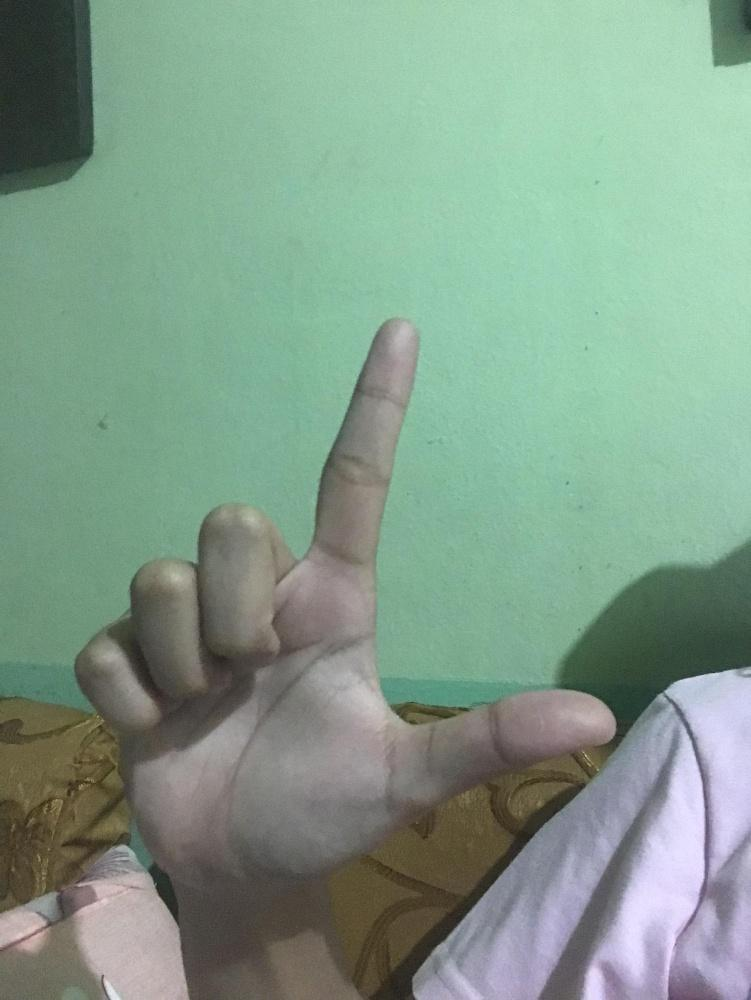l: (65, 308, 621, 885)
